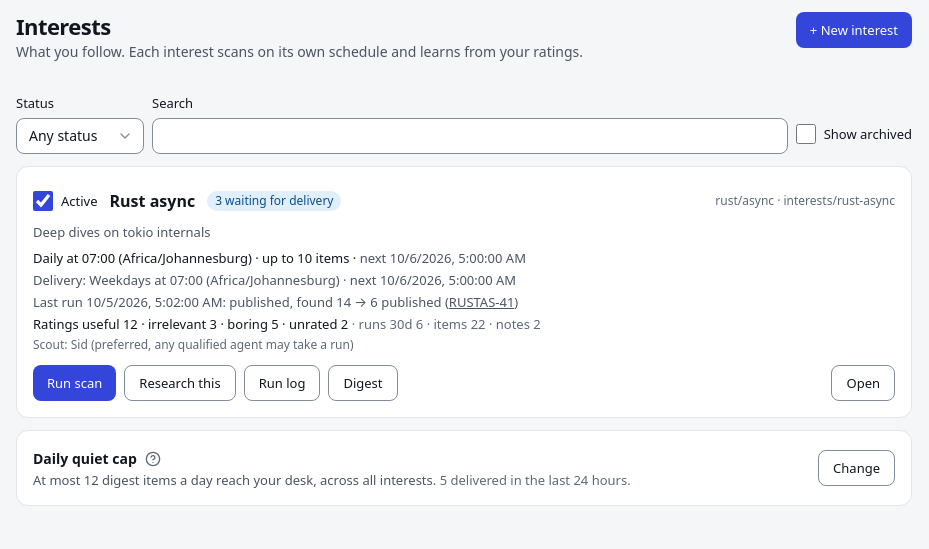
Test: Interests page › the active tick pauses and resumes; run scan starts a run
Click the checkbox with test id "interest-toggle": (43, 201) [33,191,53,211]
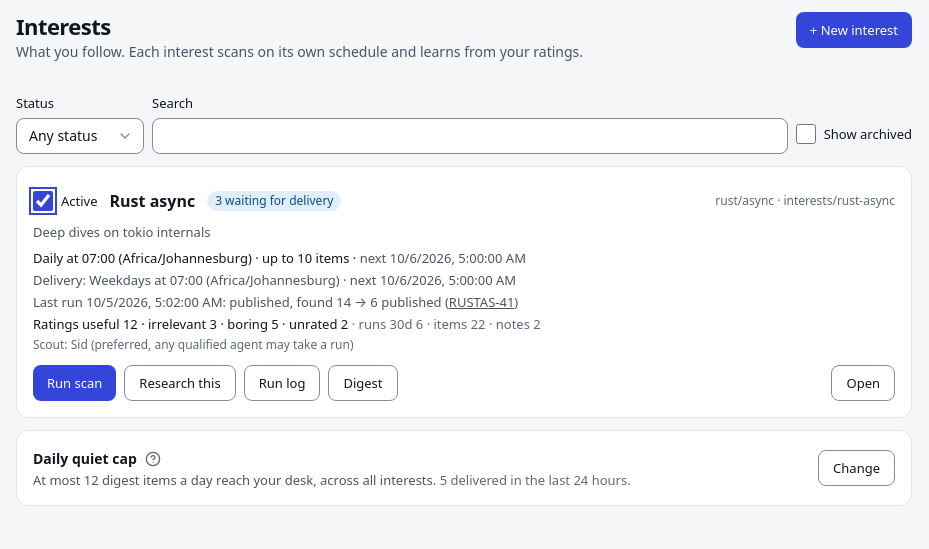
Click the button with test id "interest-run": (75, 383) [33,365,116,401]
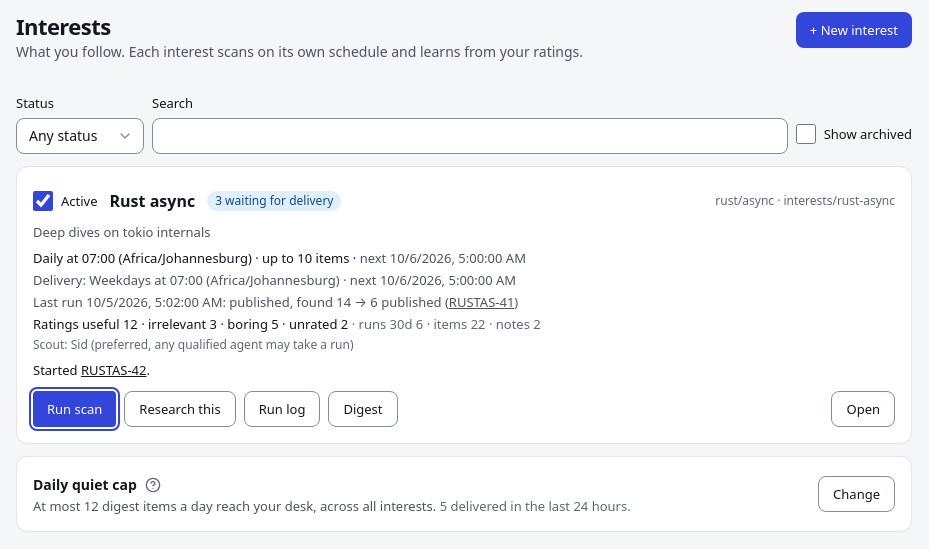
Result: the element with test id "interest-run-result" shows "RUSTAS-42" at [81,361,146,379]
